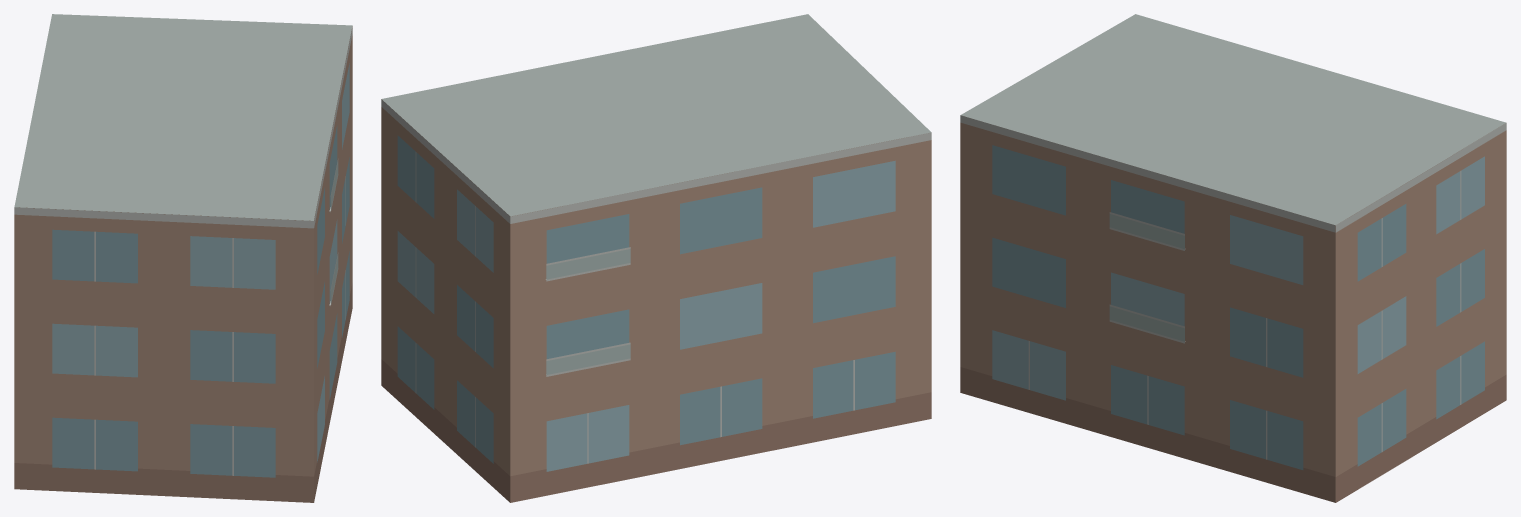
The model's file is survey-upis-32751249.glb.
3 views of the same model, side by side, from view 1: azimuth 30°, elevation 25°; view 2: azimuth 150°, elevation 25°; view 3: azimuth 270°, elevation 25° (orthographic). The views are drawn at different scales.
Parts seen in each view (by area): view 1: survey-upis-32751249.tmp; view 2: survey-upis-32751249.tmp; view 3: survey-upis-32751249.tmp.
Boxes of the visible parts, x1,y1,x2,y2 form: survey-upis-32751249.tmp: (14,14,352,502); survey-upis-32751249.tmp: (381,14,931,502); survey-upis-32751249.tmp: (960,14,1506,502).
Size of the model in its own units: 14.95 by 9.15 by 16.33.
